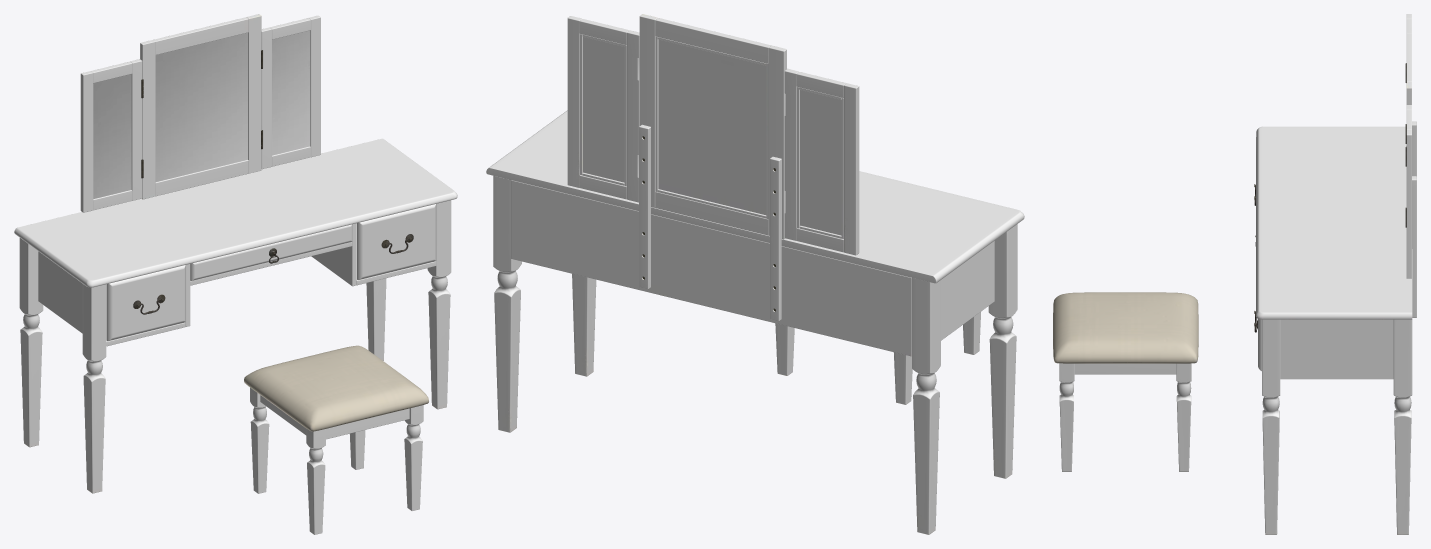
The model's file is abo-B07BL5WPHR.glb.
The picture shows the model from 3 angles, left to right: view 1: azimuth 30°, elevation 25°; view 2: azimuth 150°, elevation 25°; view 3: azimuth 270°, elevation 25°; orthographic projection. The views are drawn at different scales.
Size of the model in its own units: 1.37 by 1.31 by 1.11.
Materials: 1 (1 with a texture image).
